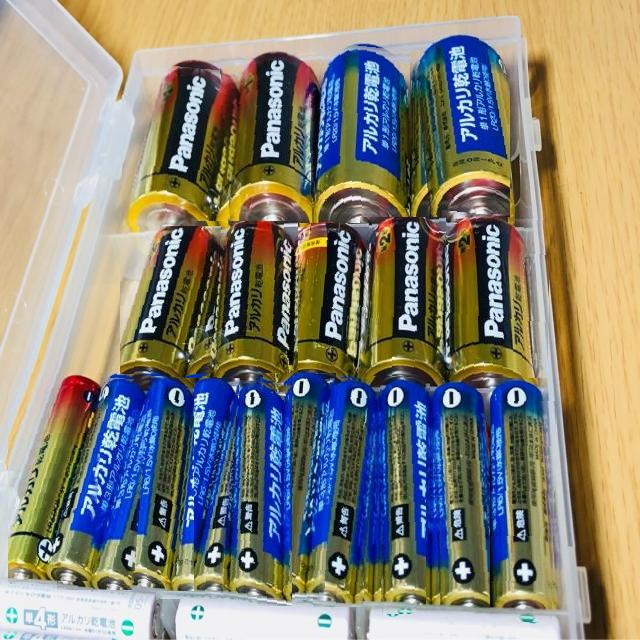battery: (8, 366, 106, 582), (202, 376, 292, 606), (410, 30, 510, 232), (57, 374, 150, 590), (122, 61, 238, 234), (308, 40, 410, 234), (442, 210, 550, 393), (108, 374, 194, 592), (219, 51, 319, 238), (156, 378, 240, 600), (196, 221, 298, 399), (269, 224, 369, 404), (120, 226, 222, 393), (263, 373, 336, 606), (489, 378, 557, 622), (314, 377, 382, 607), (360, 217, 446, 393), (430, 380, 490, 614), (370, 376, 426, 614)
